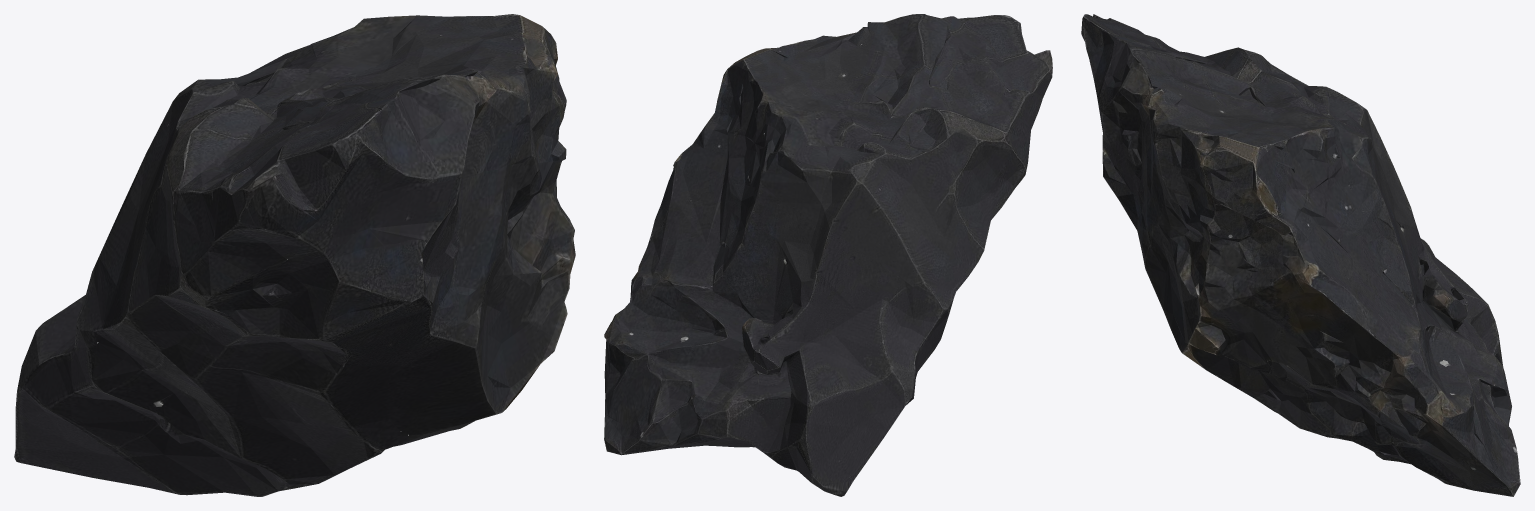
The model's file is sharp_stone.glb.
3 renders of one model, left to right at view 1: azimuth 30°, elevation 25°; view 2: azimuth 150°, elevation 25°; view 3: azimuth 270°, elevation 25°, orthographic. The views are drawn at different scales.
Visible parts, largest first — view 1: tripo_node_ca84d500-d868-4727-bfa2-f1c629f984d0; view 2: tripo_node_ca84d500-d868-4727-bfa2-f1c629f984d0; view 3: tripo_node_ca84d500-d868-4727-bfa2-f1c629f984d0.
Boxes of the visible parts, bbox=[...] form: tripo_node_ca84d500-d868-4727-bfa2-f1c629f984d0: bbox=[14, 14, 575, 496]; tripo_node_ca84d500-d868-4727-bfa2-f1c629f984d0: bbox=[604, 14, 1052, 496]; tripo_node_ca84d500-d868-4727-bfa2-f1c629f984d0: bbox=[1081, 14, 1520, 496].
Size of the model in its own units: 0.8402 by 0.9266 by 0.9779.
Materials: 1 (1 with a texture image).
